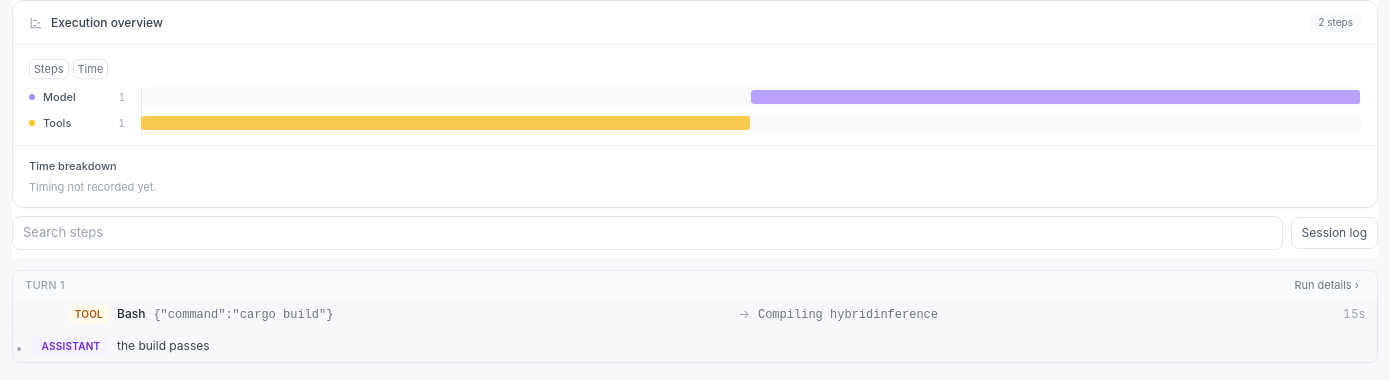
Scenario: TrajectoryView › says plainly when a query matches nothing
The width and height of the screenshot is (1390, 380).
Type "zzz" into the search field labelled "Search steps".
click(647, 233); type("zzz")  # box left=12, top=216, right=1283, bottom=250
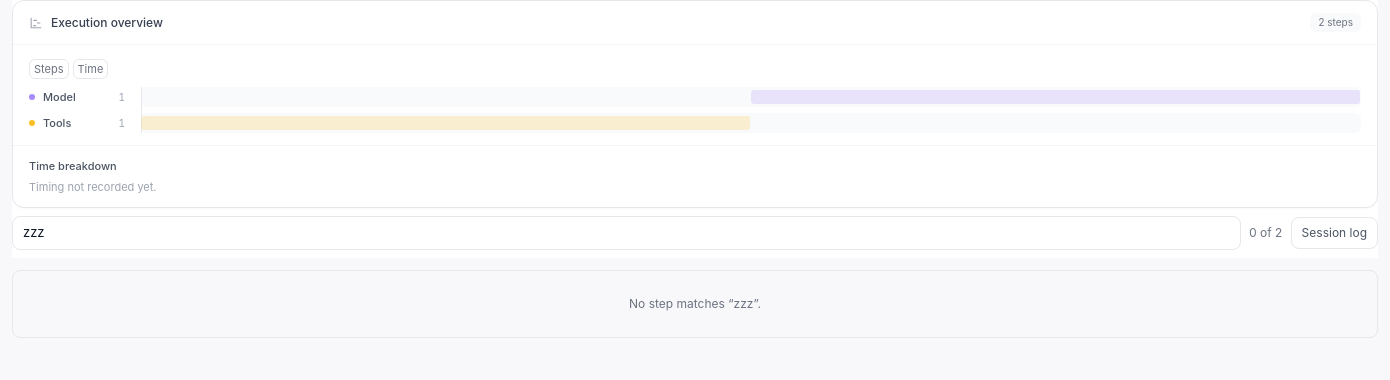
Now the text "No step matches “zzz”." is shown, box left=629, top=296, right=761, bottom=310
